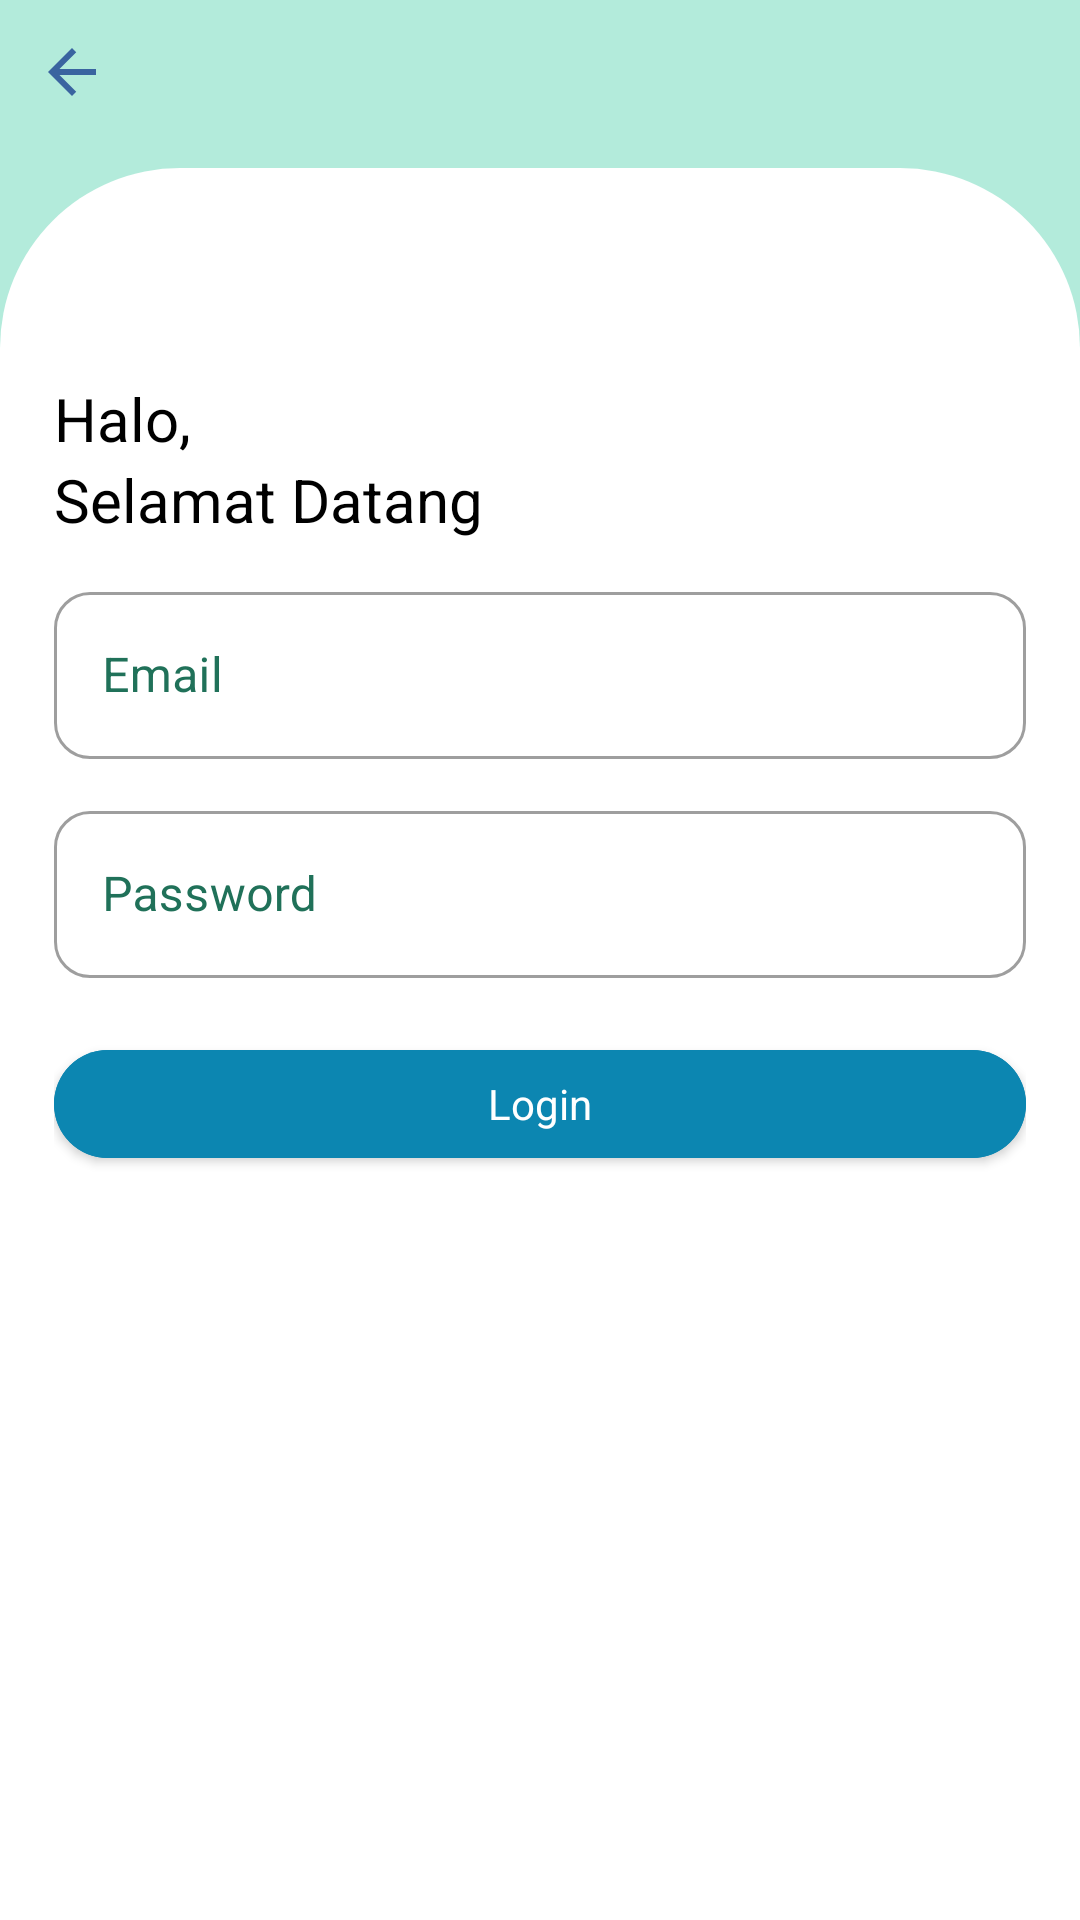

Screen size 1080×1920. Icon name, then its center in pixels as (x=x, y=y):
Kembali: (x=72, y=72)
